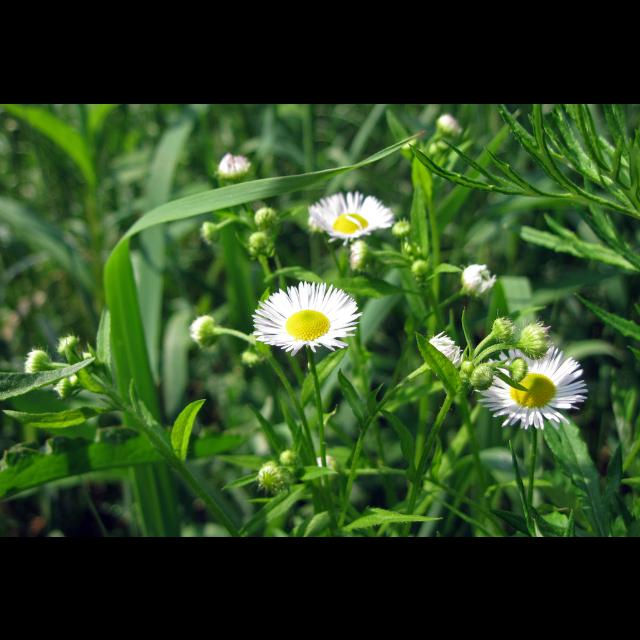Flower: (472, 344, 590, 430), (259, 281, 361, 357), (308, 190, 396, 247), (430, 330, 464, 368), (217, 152, 249, 182)
